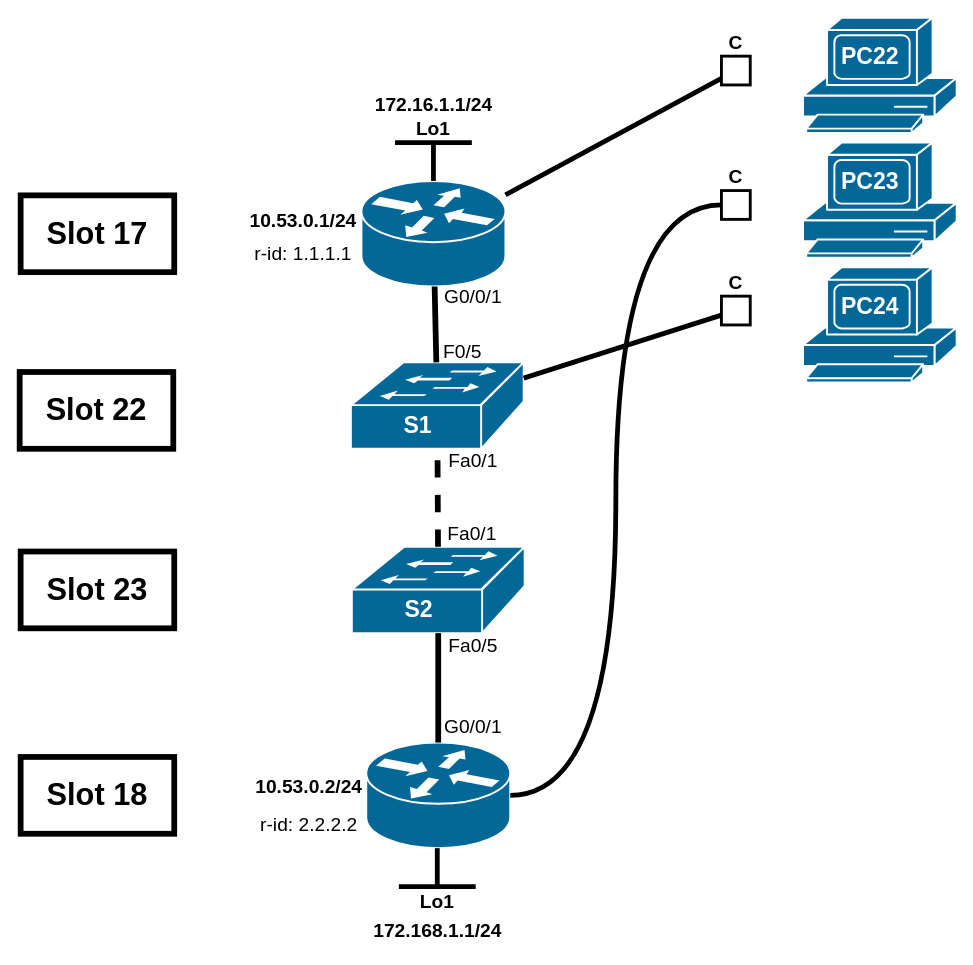
This 973x965 diagram has some shape labels left out. The centre of each missing label's shape, as x and y in pixels:
"R1" belongs at (x=433, y=233).
"R2" belongs at (x=438, y=795).
